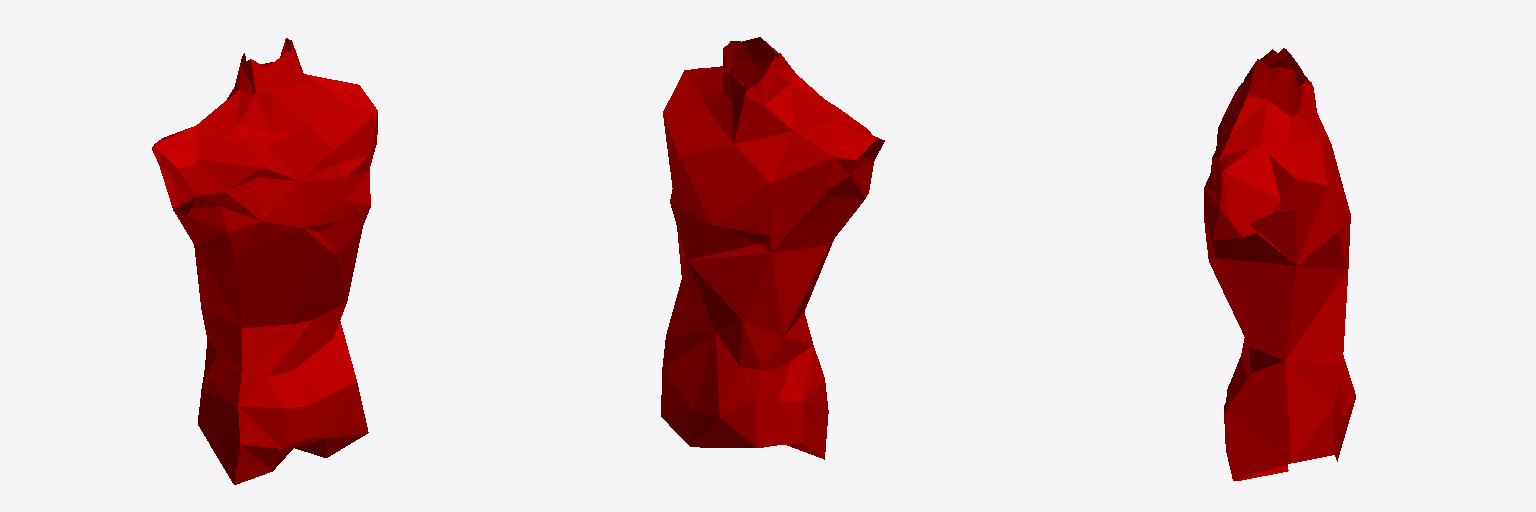
Rendered from chest.obj.
3 views of the same model, side by side, from view 1: azimuth 30°, elevation 25°; view 2: azimuth 150°, elevation 25°; view 3: azimuth 270°, elevation 25° (orthographic).
Parts seen in each view (by area): view 1: chest.001_Superhot_Enemy_Stl.033; view 2: chest.001_Superhot_Enemy_Stl.033; view 3: chest.001_Superhot_Enemy_Stl.033.
Boxes of the visible parts, x1=… form: chest.001_Superhot_Enemy_Stl.033: x1=152, y1=38, x2=377, y2=484; chest.001_Superhot_Enemy_Stl.033: x1=661, y1=37, x2=884, y2=459; chest.001_Superhot_Enemy_Stl.033: x1=1204, y1=48, x2=1355, y2=480.
Bounding box in the file's own units: 39.75 × 75.13 × 25.15.